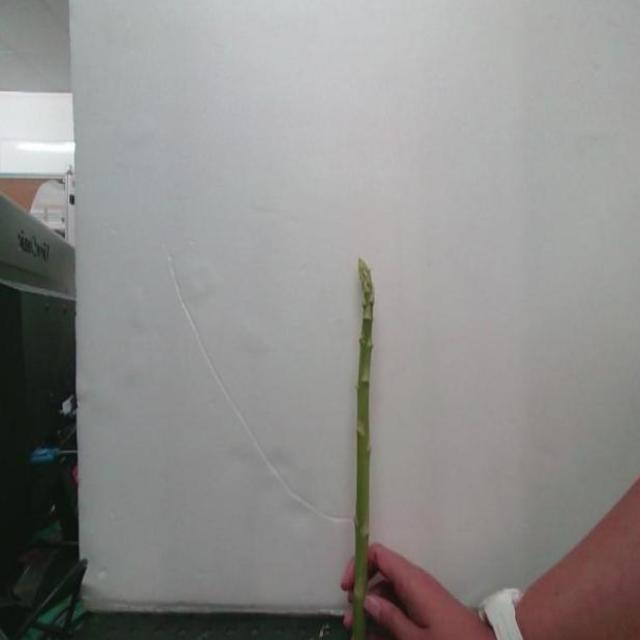aspargus: (348, 263, 377, 640)
